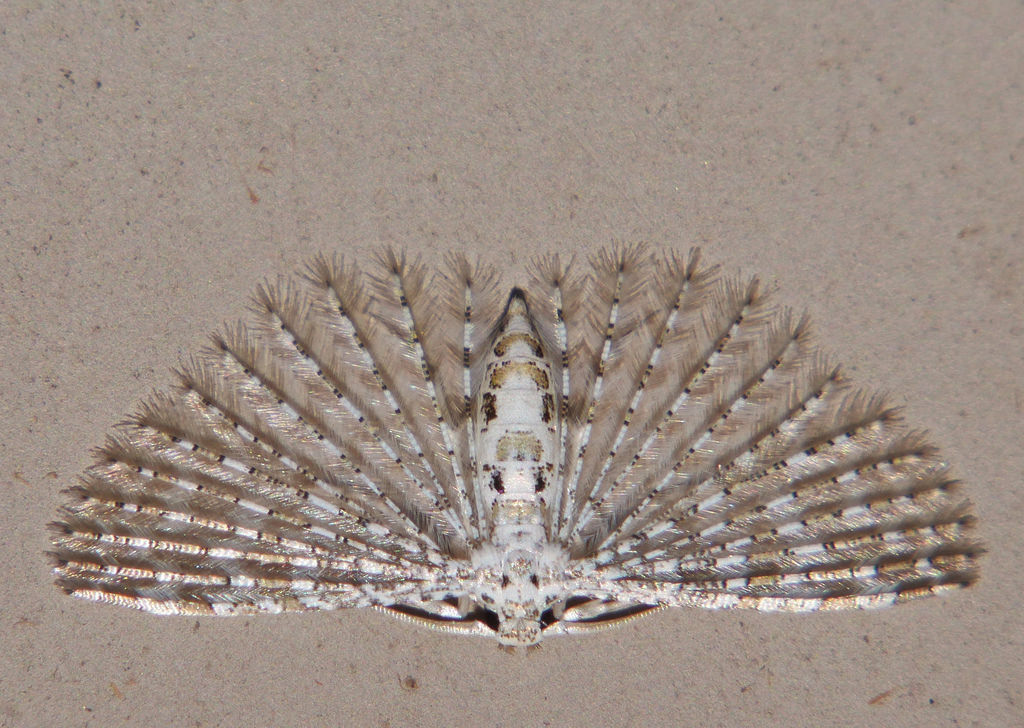Alucitidae: (57, 228, 986, 652)
moth: (59, 230, 988, 654)
